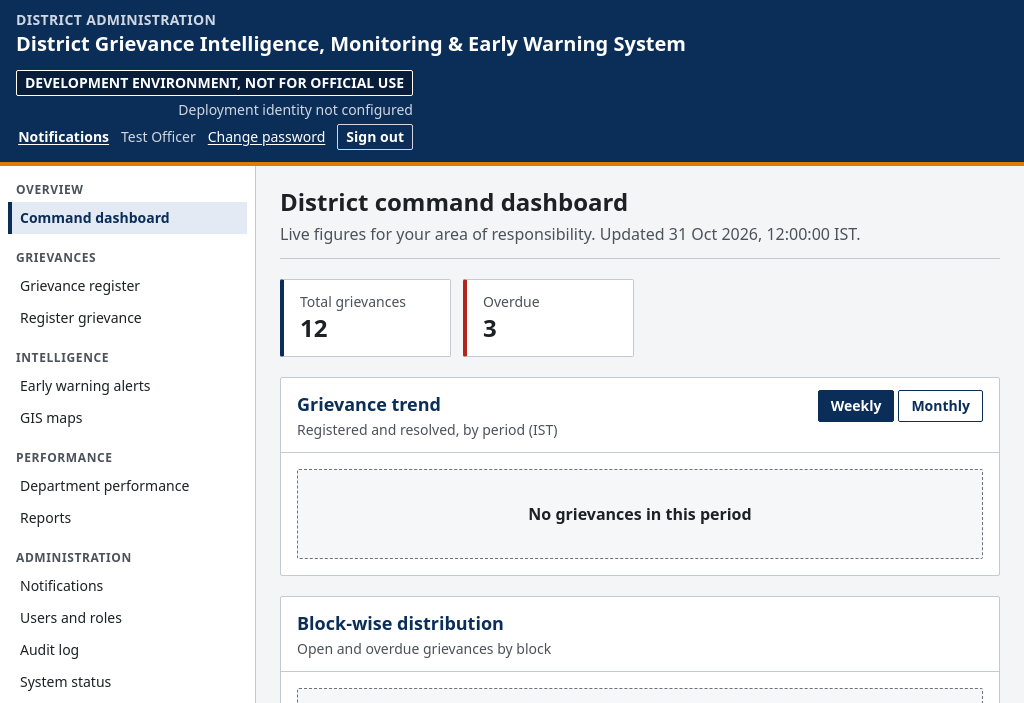
Test: Application shell › navigates, marks the current page and updates title, breadcrumbs and focus
Click the link "System status".
click(66, 681)  # box [20, 672, 111, 690]
(page scrolled)
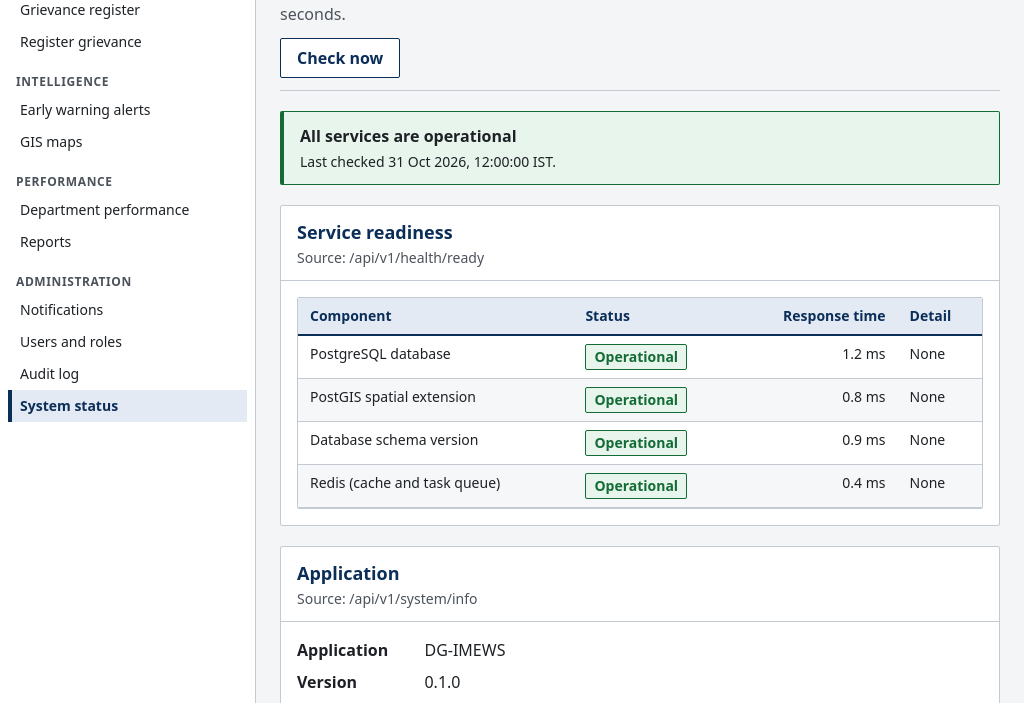
Result: the link "System status" is marked as current at [8, 390, 247, 422]
